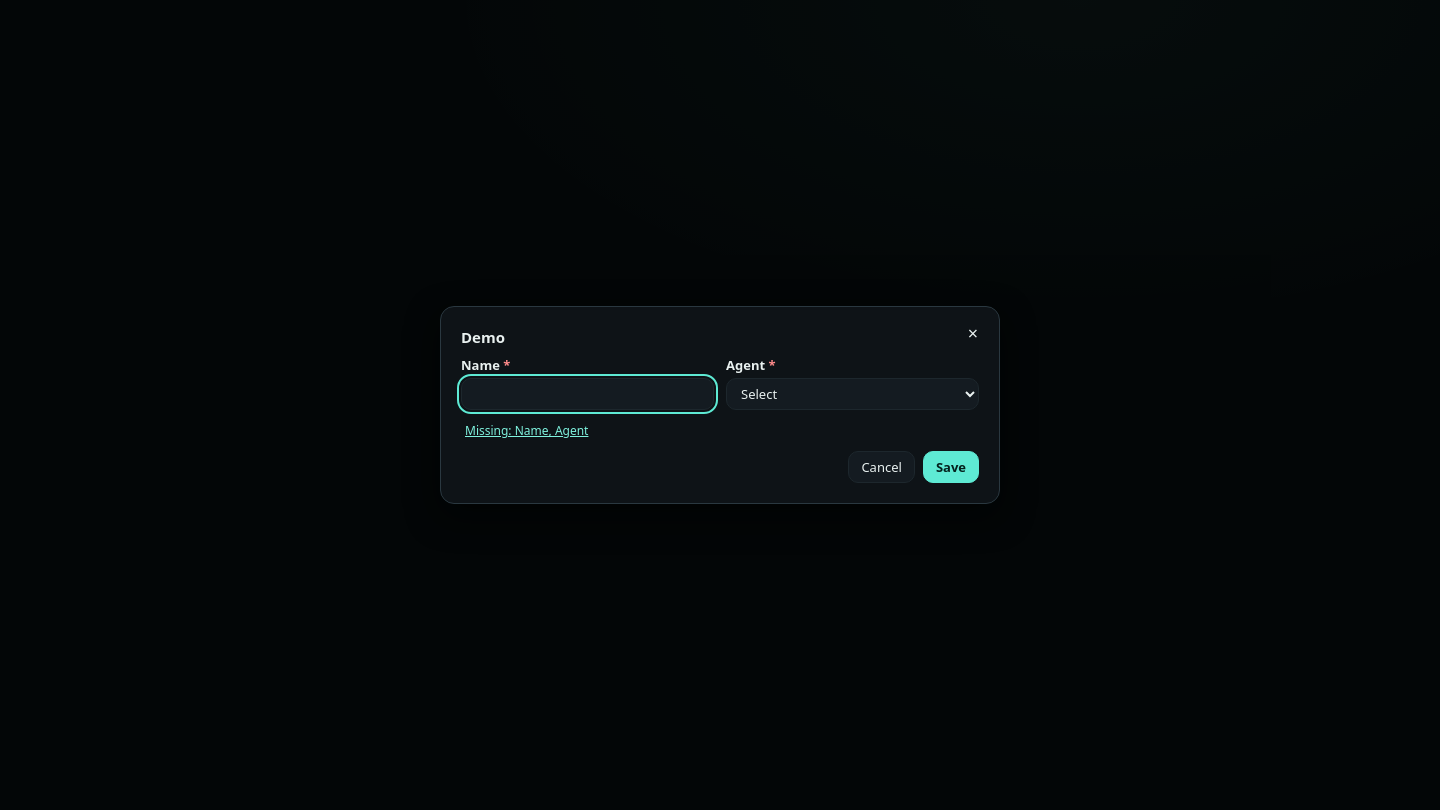
Test case: submitting an incomplete form › reveals every error on click instead of silently doing nothing
Click the button "Save": click(951, 468) [923,452,979,484]
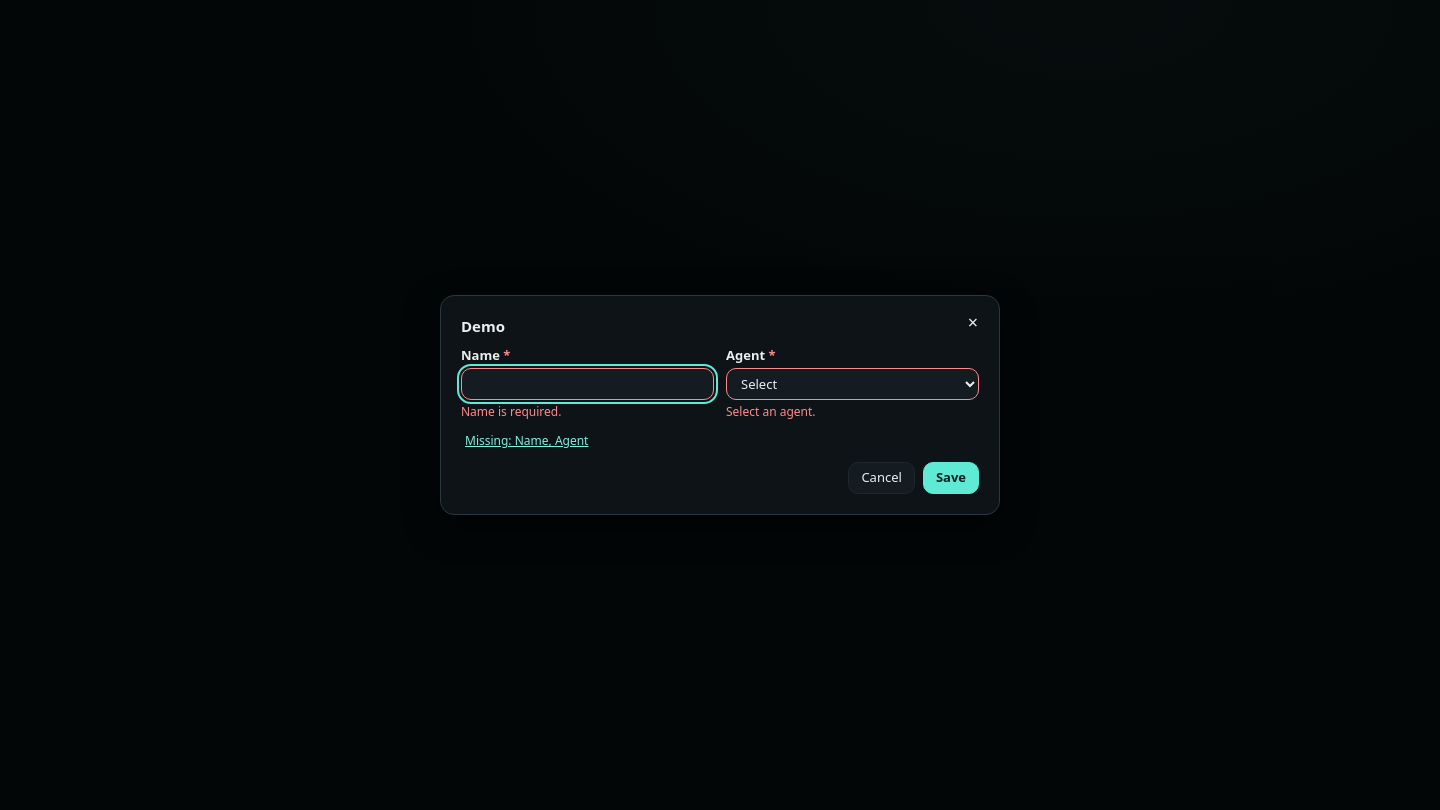
Result: the text "Select an agent." is shown at [726,403,816,420]
